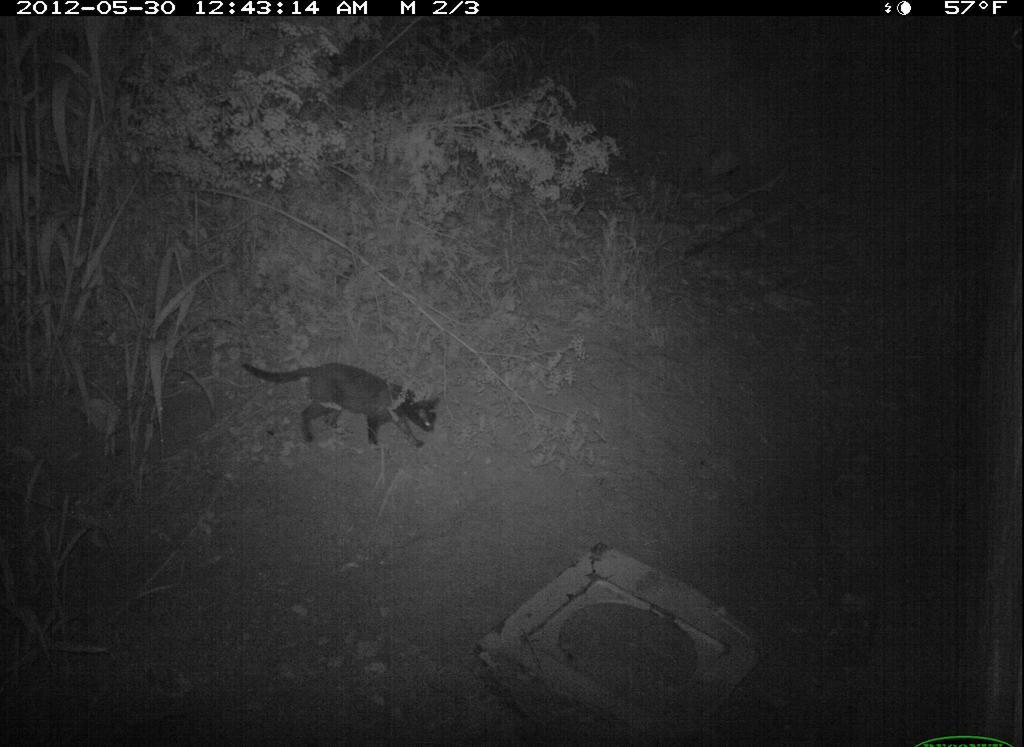cat: (227, 349, 466, 469)
